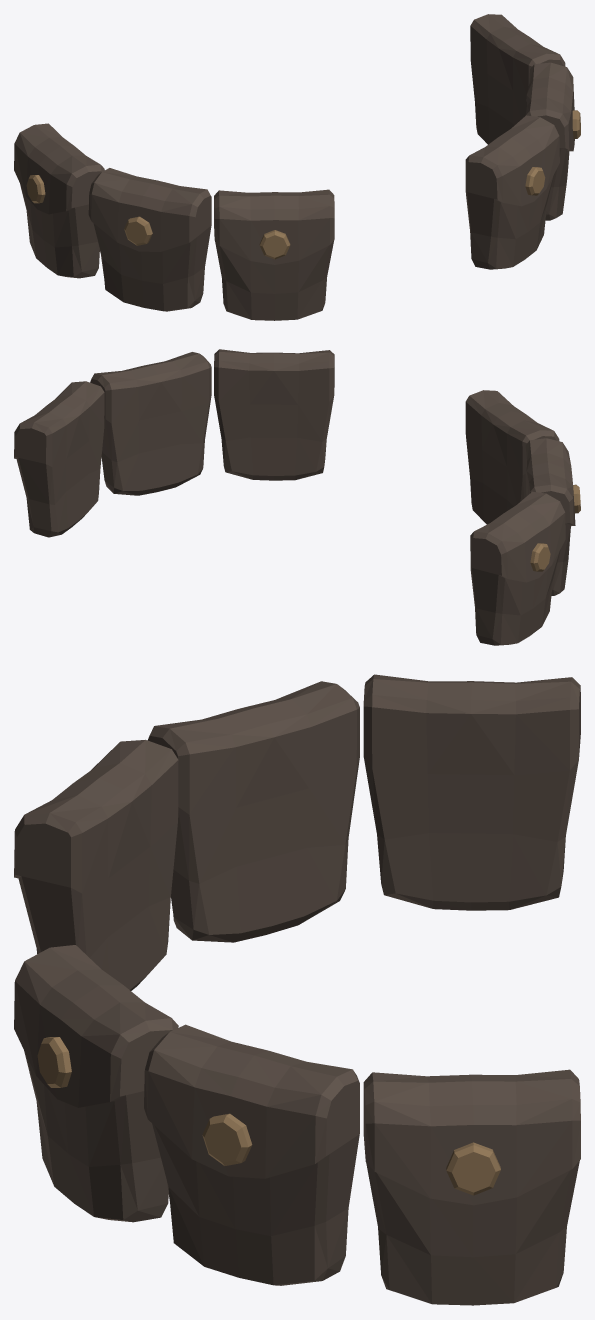
Rendered from Cha_Soldier_Ger_Pouch_01.fbx.
The picture shows the model from 3 angles, top to bottom: view 1: azimuth 30°, elevation 25°; view 2: azimuth 150°, elevation 25°; view 3: azimuth 270°, elevation 25°; orthographic projection. The views are drawn at different scales.
Visible parts, largest first — view 1: Cha_Soldier_Ger_Pouch_01_LOD0; view 2: Cha_Soldier_Ger_Pouch_01_LOD0; view 3: Cha_Soldier_Ger_Pouch_01_LOD0.
Part boxes in pixels (left/top/right/bottom): Cha_Soldier_Ger_Pouch_01_LOD0: left=14, top=14, right=580, bottom=320; Cha_Soldier_Ger_Pouch_01_LOD0: left=14, top=349, right=580, bottom=645; Cha_Soldier_Ger_Pouch_01_LOD0: left=14, top=674, right=580, bottom=1305.
Size of what is drawn, in the model's own units: 38.88 by 8.93 by 20.76.
